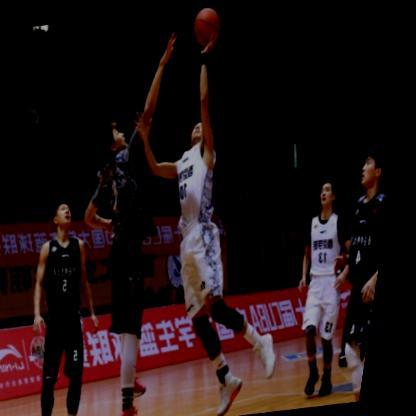basketball: (187, 6, 226, 50)
